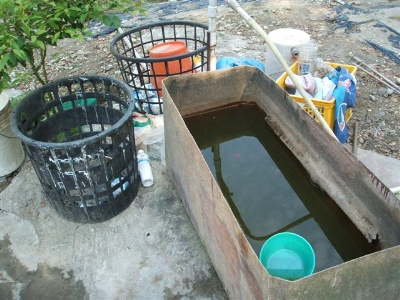bottle: (137, 149, 154, 187)
bowl: (259, 232, 316, 279)
box: (162, 65, 400, 299)
bucket: (148, 40, 195, 98)
